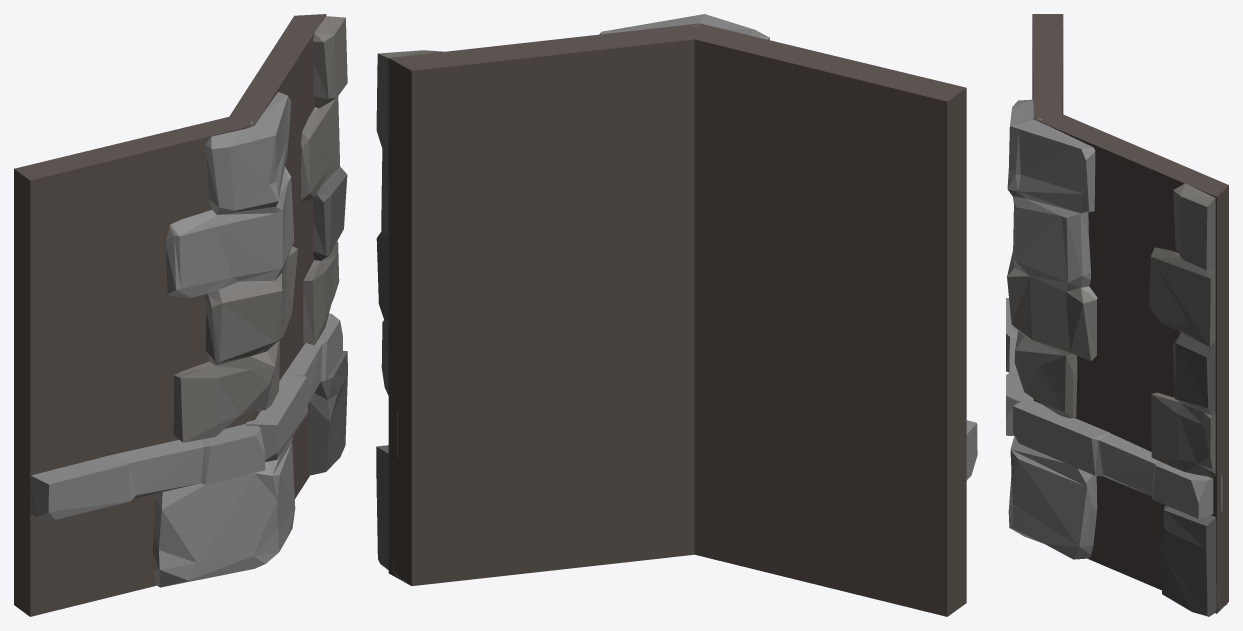
File: MCastle_OctWalls_Border_02.FBX
The picture shows the model from 3 angles, left to right: view 1: azimuth 30°, elevation 25°; view 2: azimuth 150°, elevation 25°; view 3: azimuth 270°, elevation 25°; orthographic projection. The views are drawn at different scales.
Parts seen in each view (by area): view 1: MCastle_OctWalls_Border_02_LOD0; view 2: MCastle_OctWalls_Border_02_LOD0; view 3: MCastle_OctWalls_Border_02_LOD0.
Boxes of the visible parts, <box> form: MCastle_OctWalls_Border_02_LOD0: <box>14,14,347,616</box>; MCastle_OctWalls_Border_02_LOD0: <box>376,14,977,616</box>; MCastle_OctWalls_Border_02_LOD0: <box>1006,14,1228,616</box>.
Size of what is drawn, in the model's own units: 4.37 by 4.47 by 2.16.
